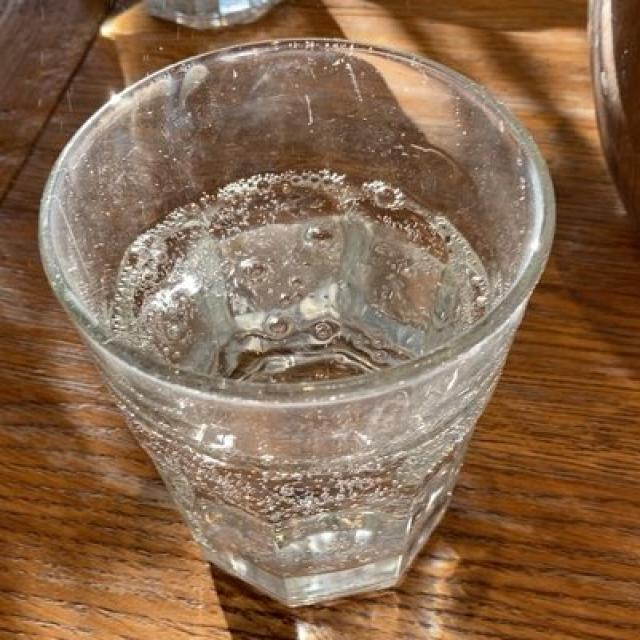water-mineral: (113, 162, 483, 385)
